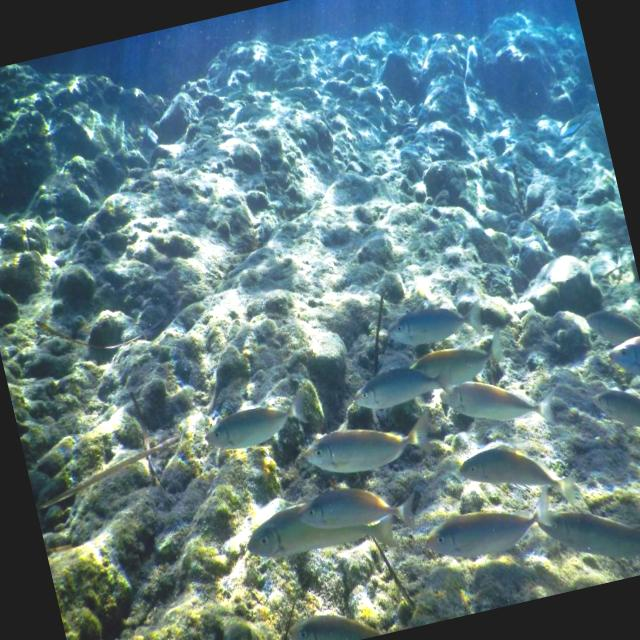Sokar Baligi: (292, 395, 439, 492), (412, 485, 567, 574), (190, 376, 326, 462)
